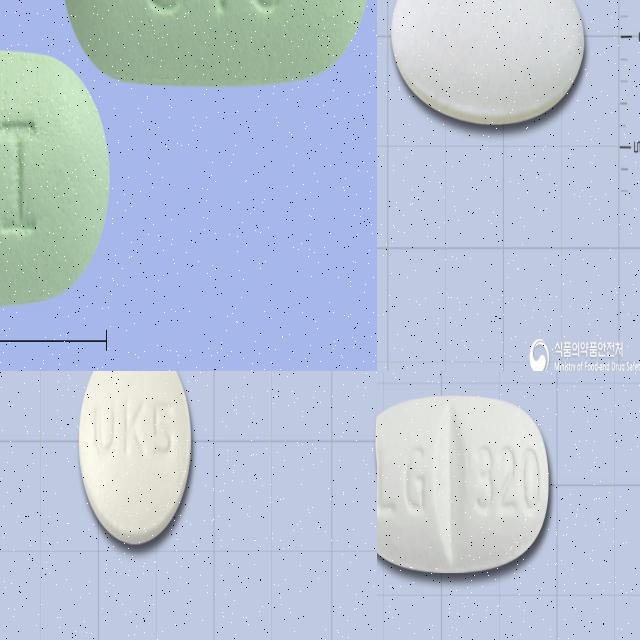Factive: (377, 393, 549, 574)
Genvoya: (0, 47, 111, 311), (59, 0, 372, 86)
Moxicle Tab-625mg: (392, 0, 586, 126)
Unifixime Cap: (78, 371, 193, 546)
